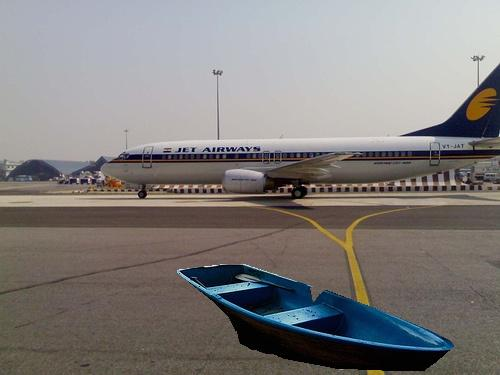tampered: (177, 265, 454, 371)
